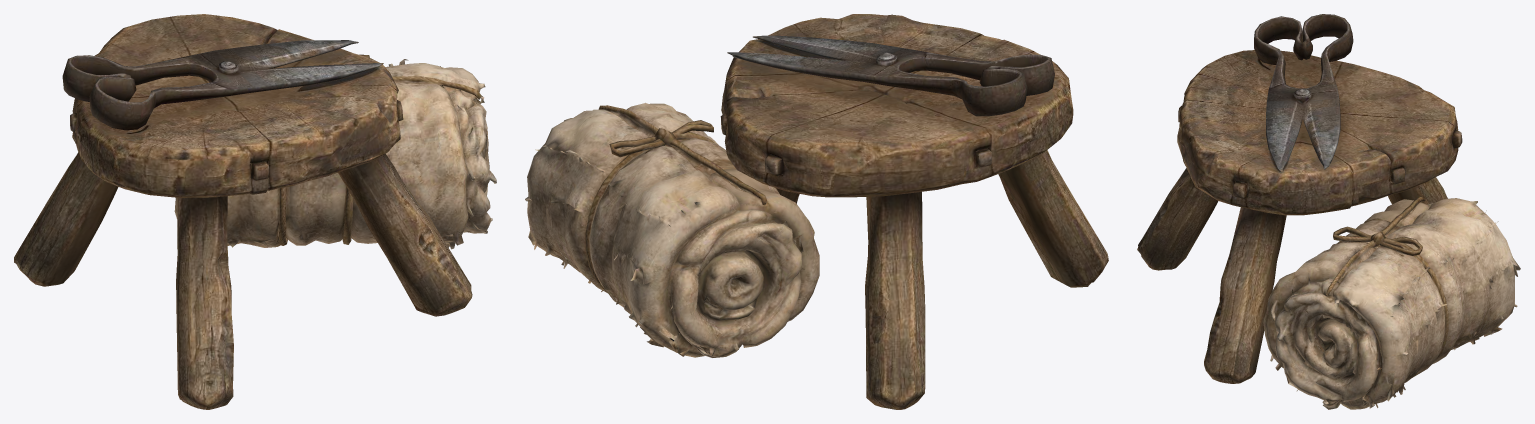
The model's file is kit_sr_shearing_stool.glb.
3 views of the same model, side by side, from view 1: azimuth 30°, elevation 25°; view 2: azimuth 150°, elevation 25°; view 3: azimuth 270°, elevation 25° (orthographic). The views are drawn at different scales.
Parts seen in each view (by area): view 1: kit_sr_shearing_stool; view 2: kit_sr_shearing_stool; view 3: kit_sr_shearing_stool.
Part boxes in pixels (x1,y1,x2,y2): kit_sr_shearing_stool: (14,14,496,409); kit_sr_shearing_stool: (525,14,1108,409); kit_sr_shearing_stool: (1137,14,1520,409).
Size of the model in its own units: 1 by 0.589 by 0.8748.
Materials: 1 (1 with a texture image).
